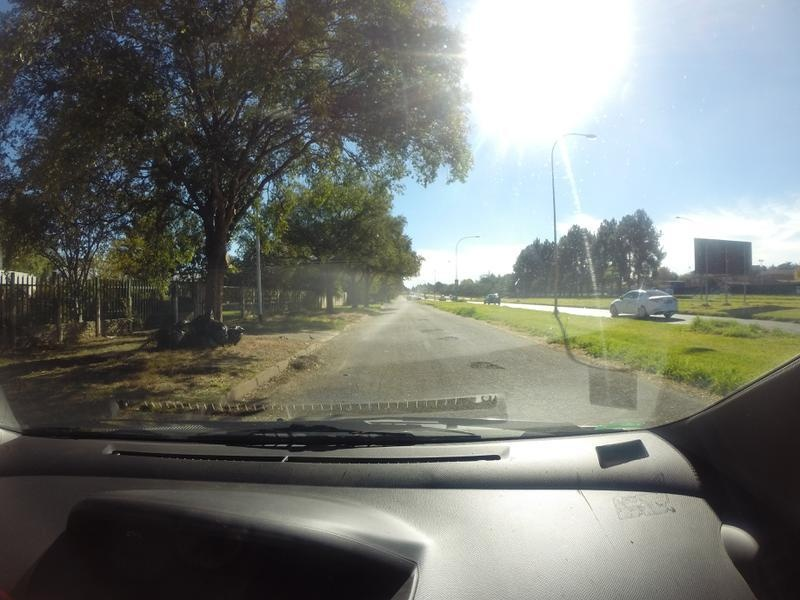pothole: (464, 352, 510, 376), (434, 334, 461, 346), (423, 324, 446, 336)
